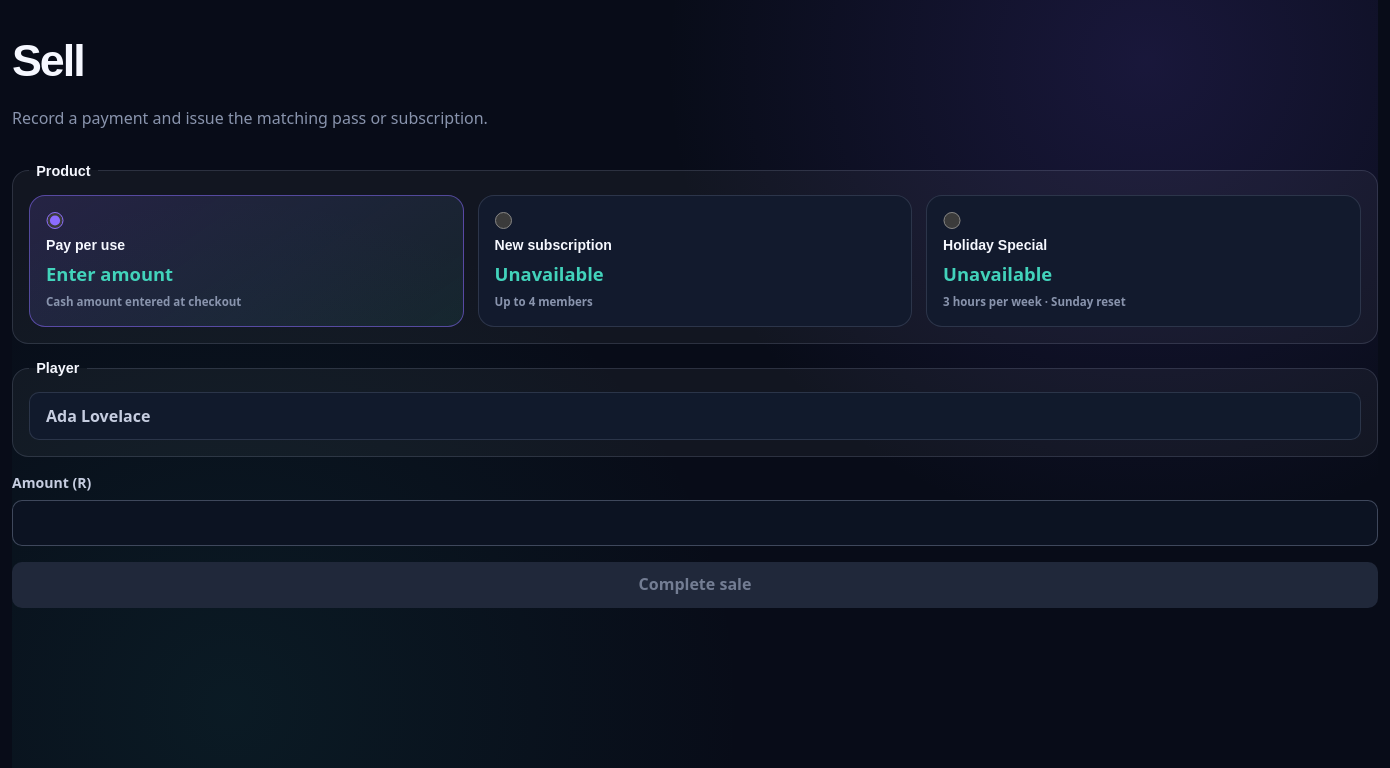
Test: Sell screen catalog prices › keeps blank pay-per-use disabled and records a valid decimal Rand value as integer cents
Click the button "Ada Lovelace".
click(98, 416)  # box [29,392,1361,440]
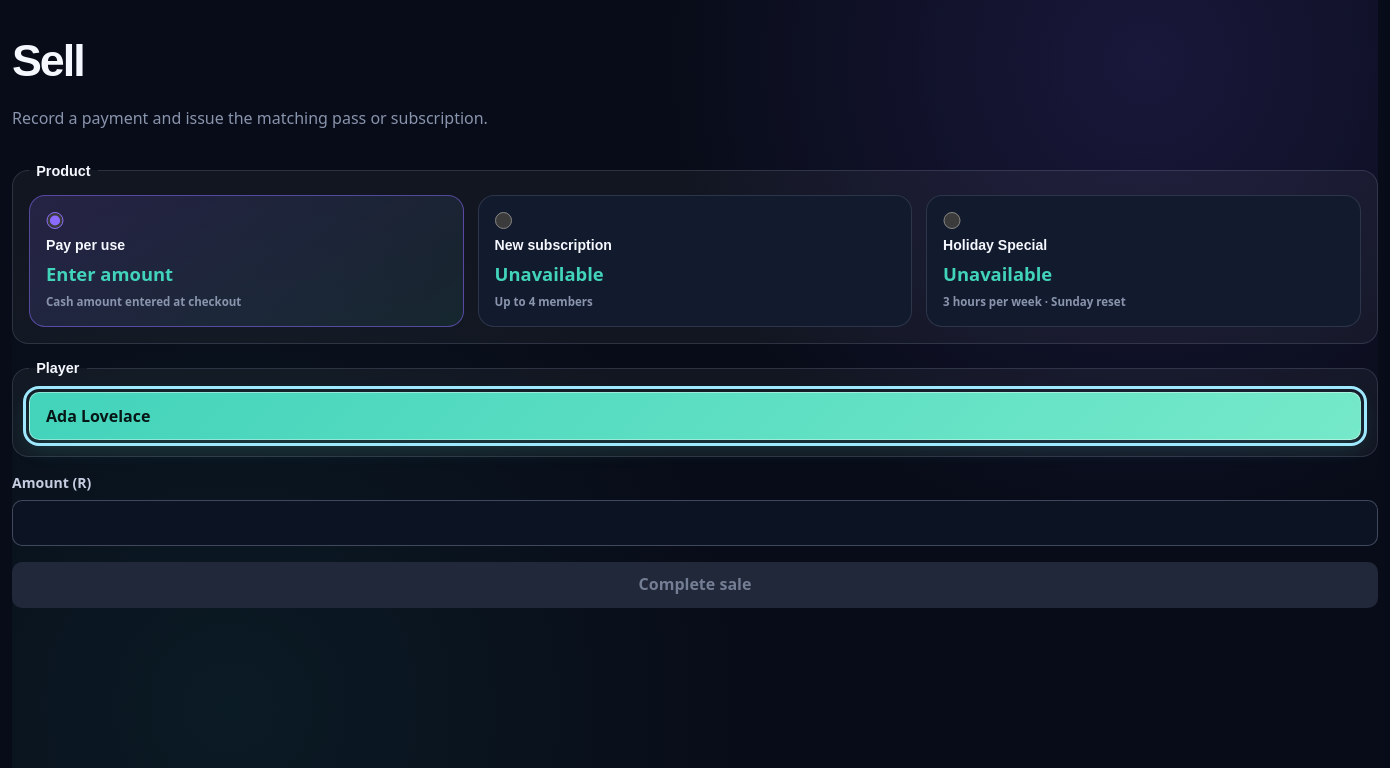
Check: the button "Complete sale" is disabled, box [12,562,1378,608]
Type "12.34" into the number field named "Cash amount".
click(695, 523); type("12.34")  # box [12,500,1378,546]
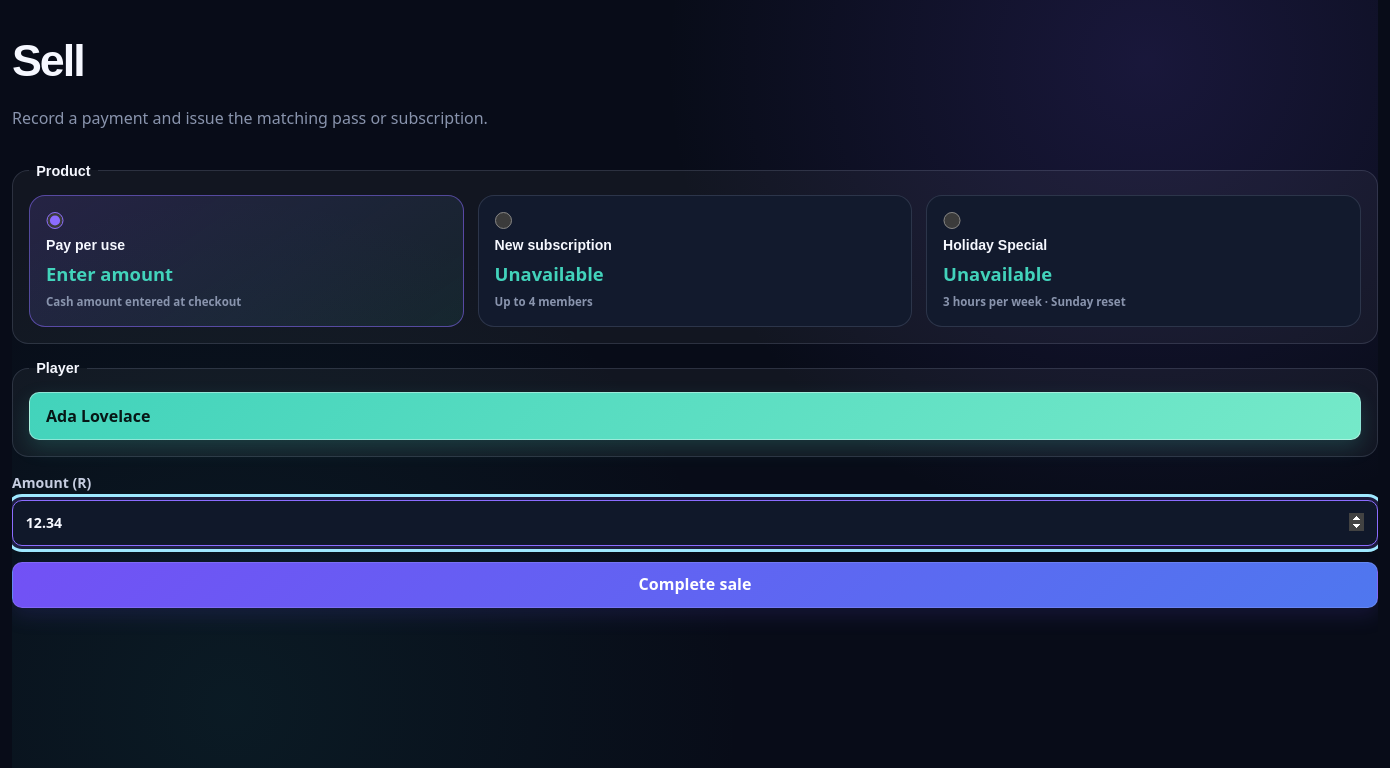
Check: the button "Complete sale" is enabled
Click the button "Complete sale".
click(695, 585)  # box [12,562,1378,608]
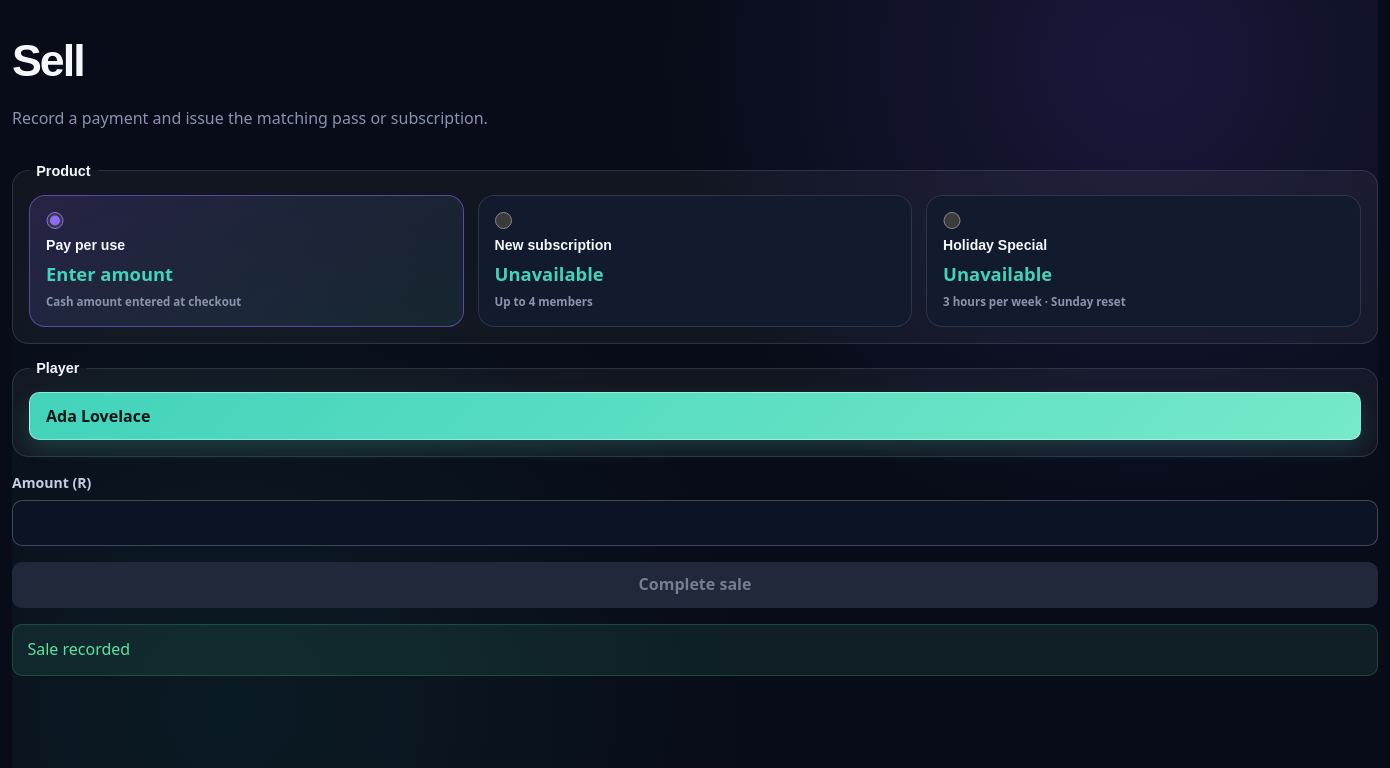
Check: the message reads "Sale recorded", box [27,638,130,660]
